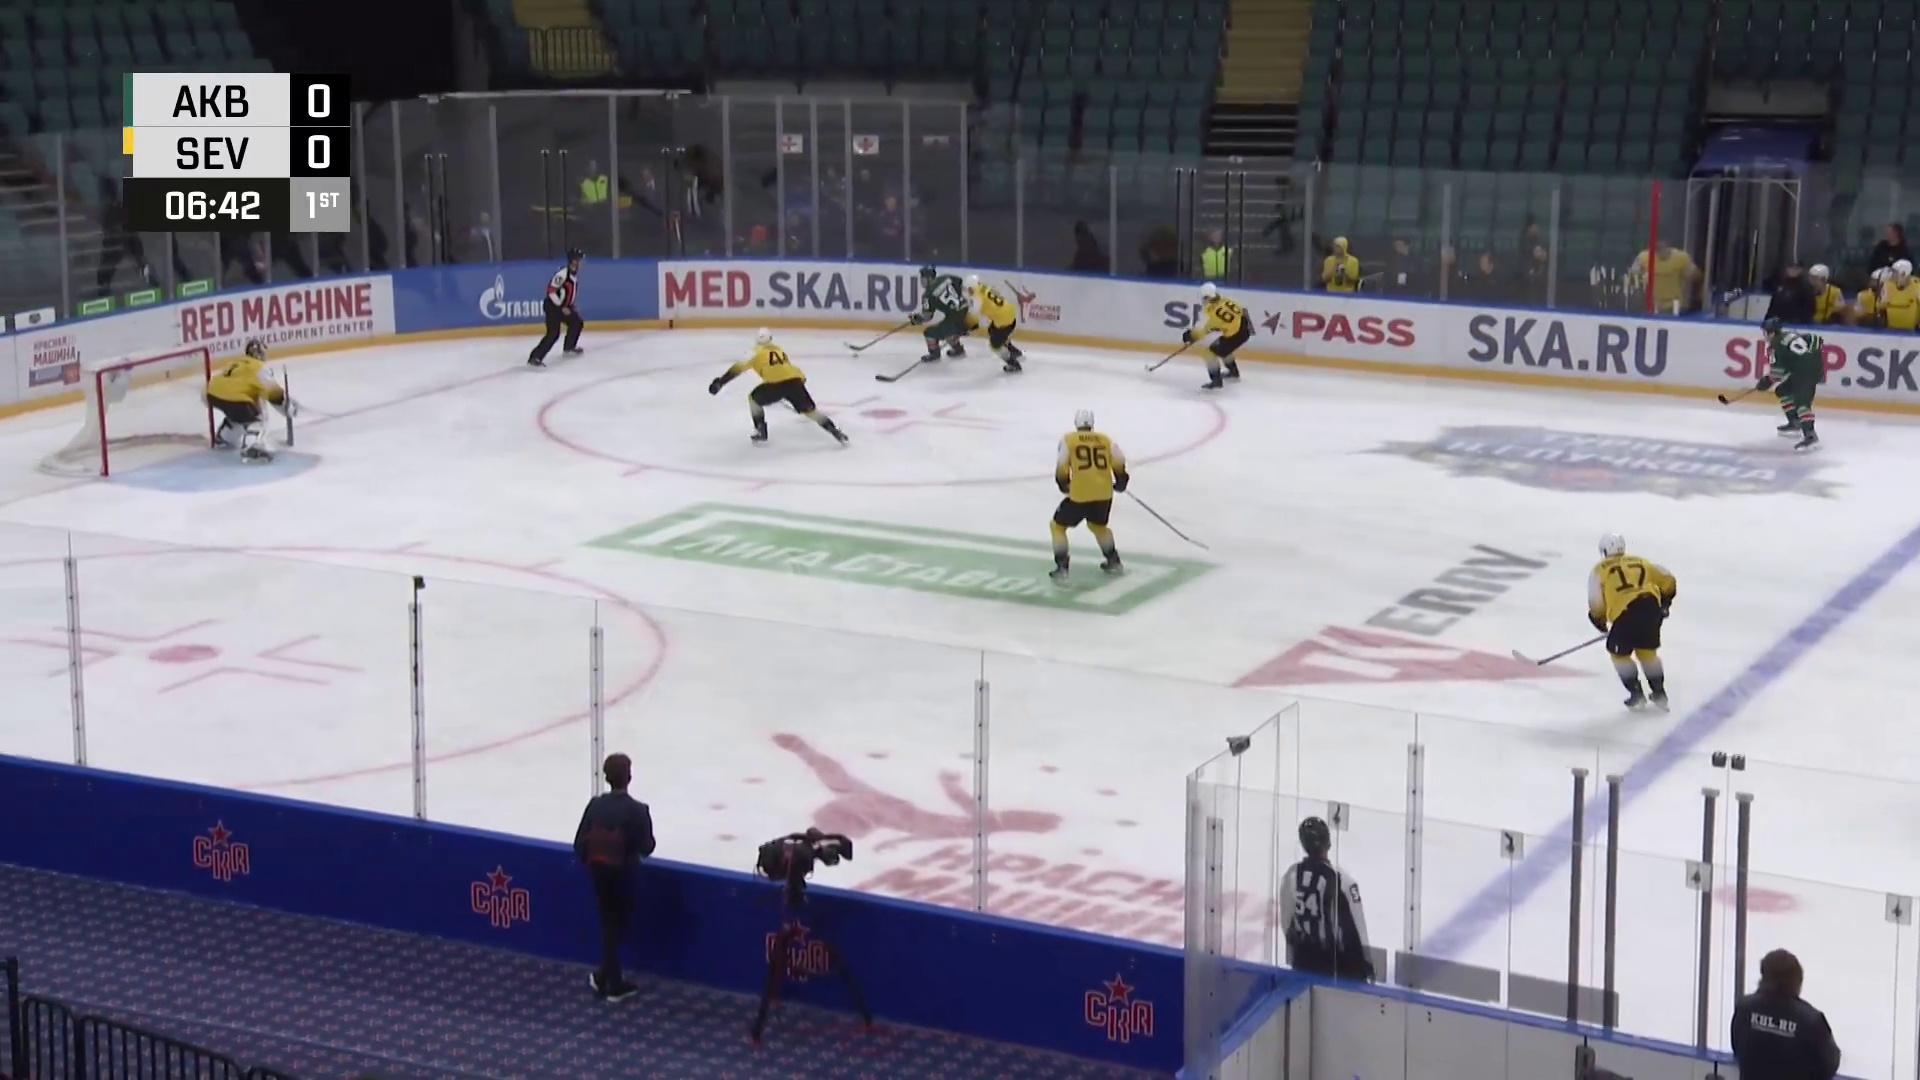ball: (851, 352, 858, 359)
